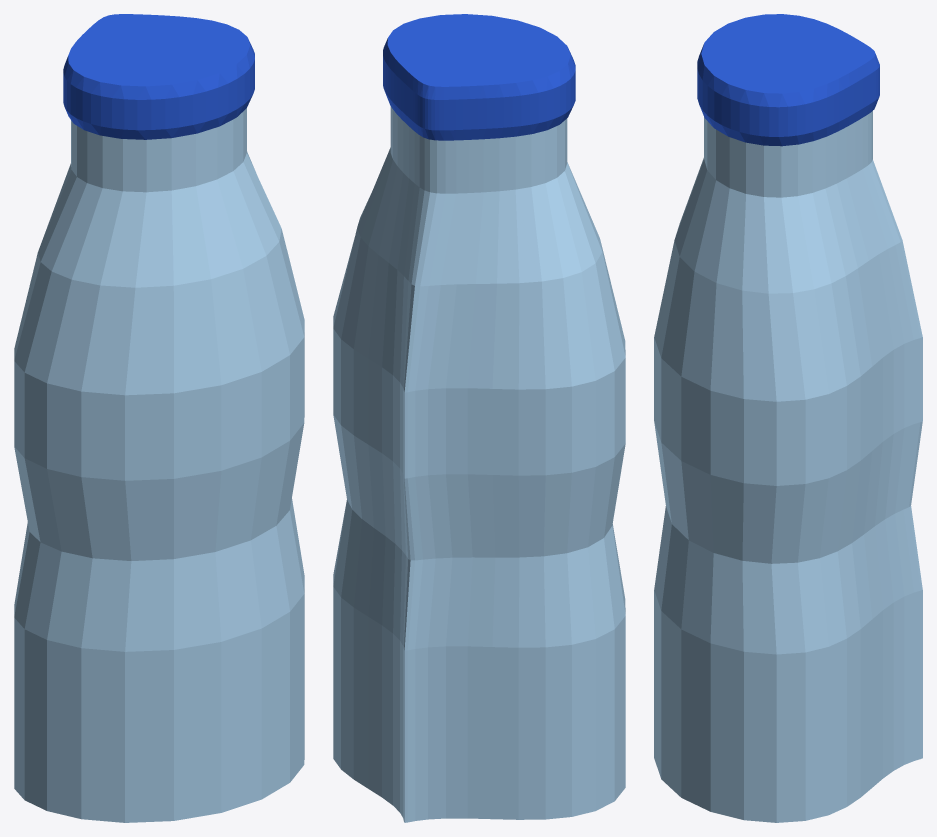
Rendered from lowpolywaterbottle.fbx.
The picture shows the model from 3 angles, left to right: view 1: azimuth 30°, elevation 25°; view 2: azimuth 150°, elevation 25°; view 3: azimuth 270°, elevation 25°; orthographic projection. The views are drawn at different scales.
Parts seen in each view (by area): view 1: Cylinder.001; view 2: Cylinder.001; view 3: Cylinder.001.
Boxes of the visible parts, <box> form: Cylinder.001: <box>14,14,304,822</box>; Cylinder.001: <box>333,14,625,822</box>; Cylinder.001: <box>654,14,922,822</box>.
Bounding box in the file's own units: 472 × 1198 × 414.
